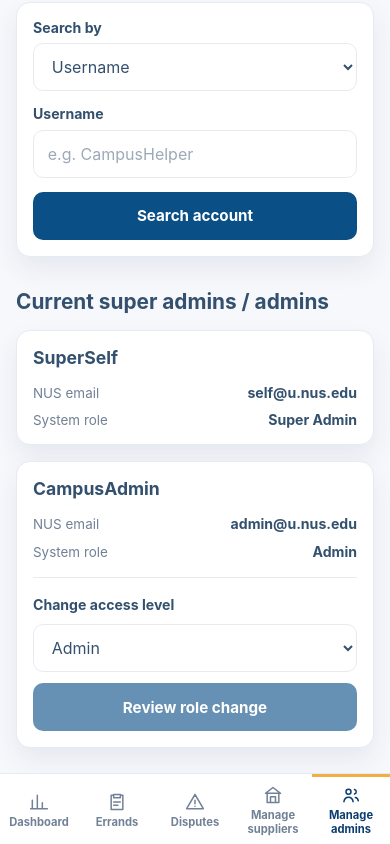
Scenario: Manage admins › reports a refresh failure separately from a successful role change and supports retry
(page scrolled)
Select "Super Admin" in the dropdown labelled "Change access level" at (195, 648), box [33,624,357,672]
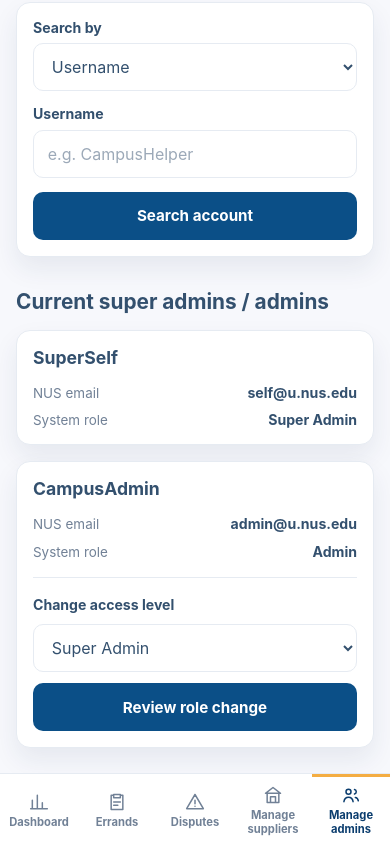
Result: the button "Review role change" is enabled
Click the button "Review role change" at (195, 707), box [33,683,357,731]
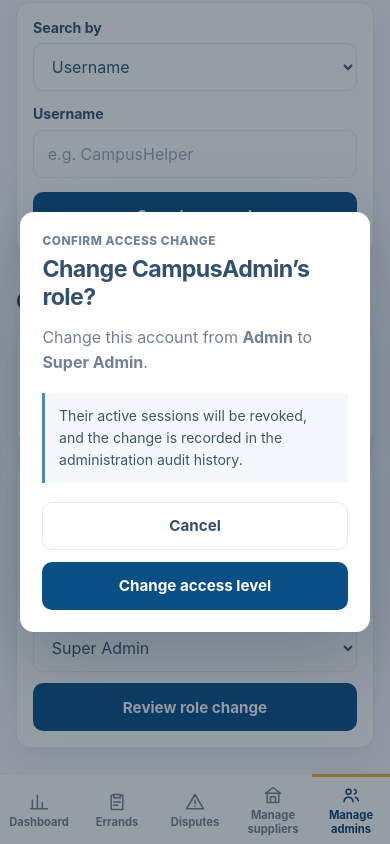
Result: the dialog is shown at [20,212,370,632]
Click the button "Change access level" at (195, 586), box [42,562,348,610]
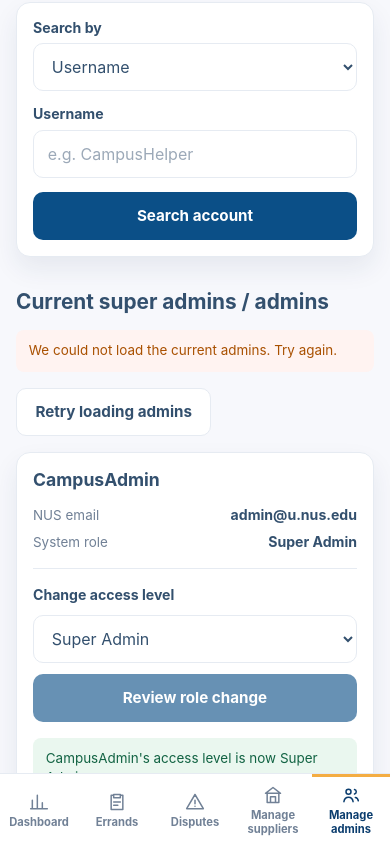
Result: the message "We could not load the current admins. Try again." is shown at [16,330,374,372]
Result: the dialog is gone
Result: the message "CampusAdmin's access level is now Super Admin." is shown at [33,738,357,799]
Click the button "Retry loading admins" at (114, 412), box [16,388,211,436]
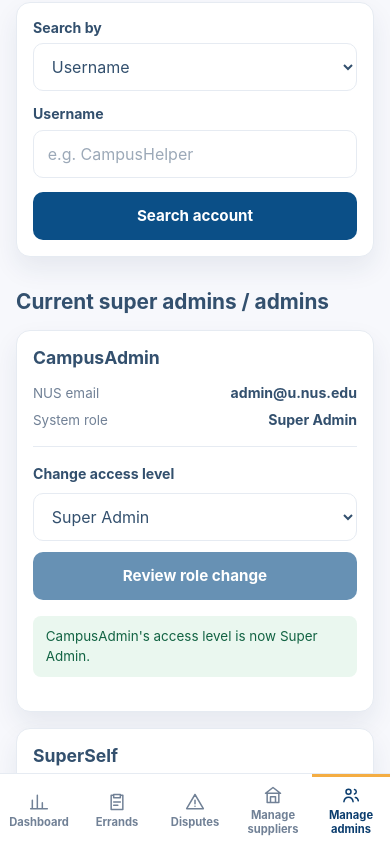
Result: the message "We could not load the current admins. Try again." is gone
